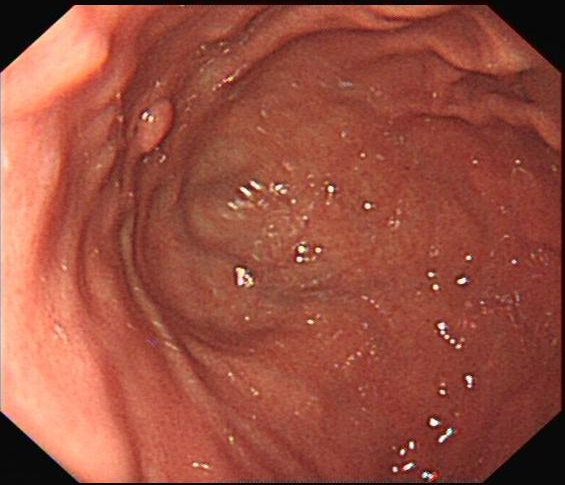Polyp: (119, 79, 186, 175)
